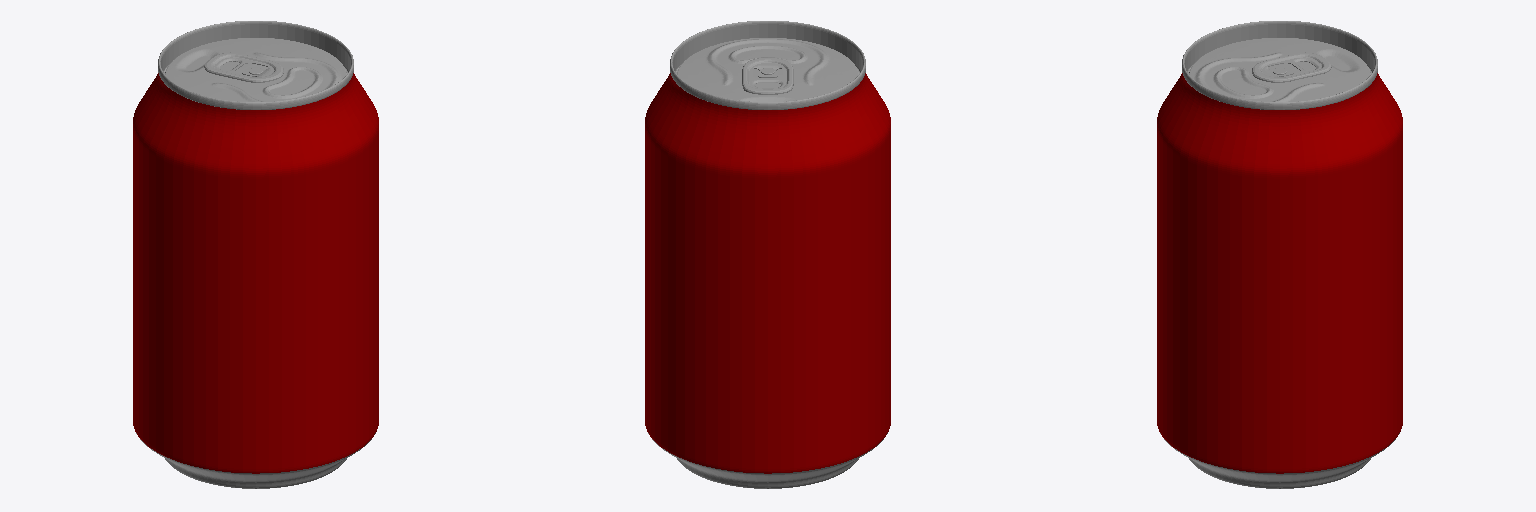
The model's file is lata.obj.
The picture shows the model from 3 angles: view 1: azimuth 30°, elevation 25°; view 2: azimuth 150°, elevation 25°; view 3: azimuth 270°, elevation 25°; orthographic projection.
Parts seen in each view (by area): view 1: 35_Coca_Cola_can; view 2: 35_Coca_Cola_can; view 3: 35_Coca_Cola_can.
Boxes of the visible parts, <box> form: 35_Coca_Cola_can: <box>133,21,378,488</box>; 35_Coca_Cola_can: <box>645,21,890,488</box>; 35_Coca_Cola_can: <box>1157,21,1402,488</box>.
Bounding box in the file's own units: 0.4461 × 0.7756 × 0.4461.